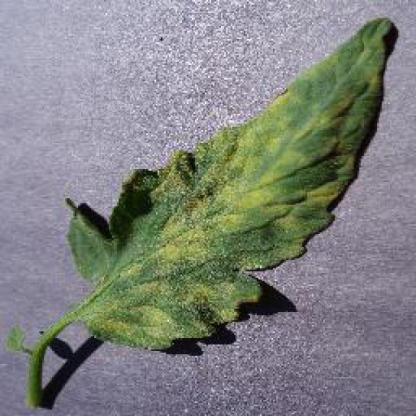Tomato_Leaf_Mold: (67, 18, 394, 350)
